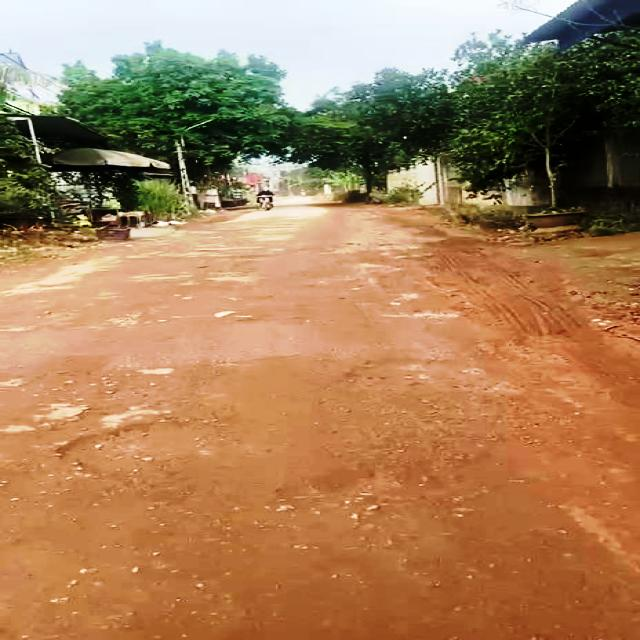pothole: (48, 415, 229, 485)
